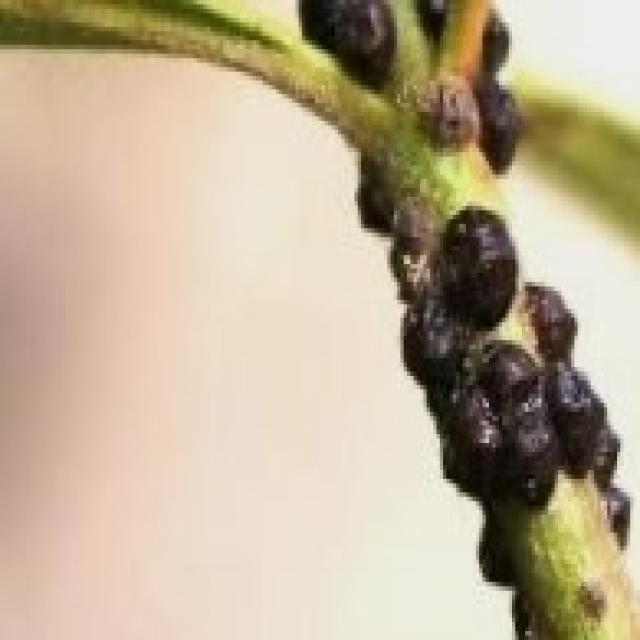BlackScale: (358, 152, 633, 636)
